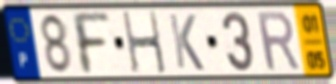3: (220, 10, 255, 74)
8: (38, 12, 76, 76)
F: (67, 10, 113, 78)
H: (120, 9, 169, 76)
K: (166, 12, 207, 73)
R: (254, 9, 303, 74)
